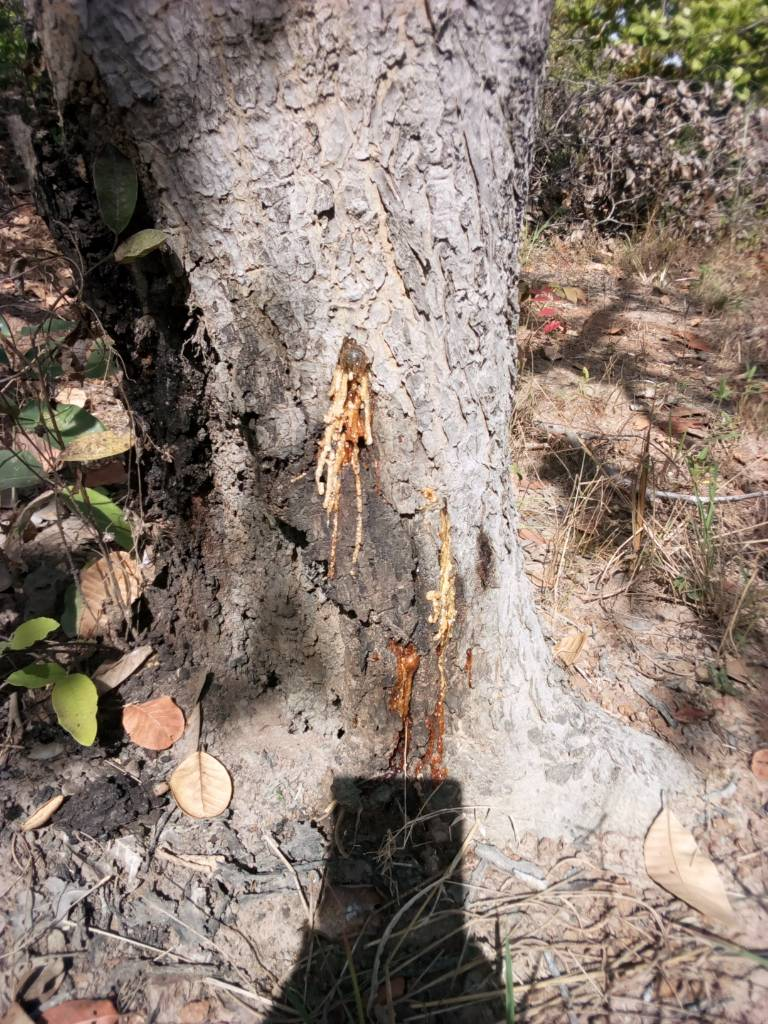Mecocorynus longiceps: (374, 495, 497, 819), (279, 310, 411, 580)
